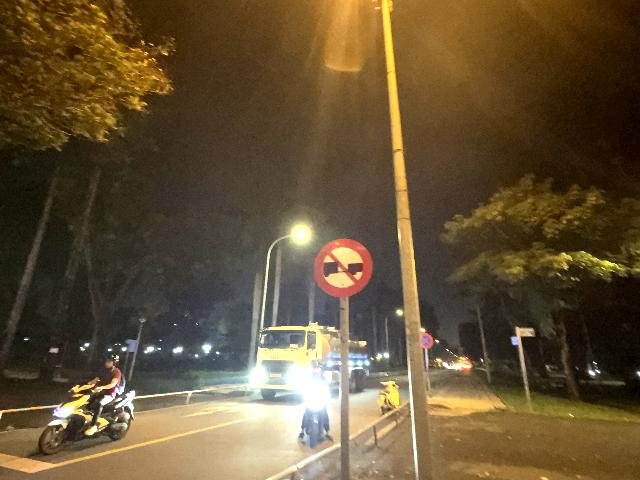cam-xe-somi-romooc: (313, 238, 374, 298)
